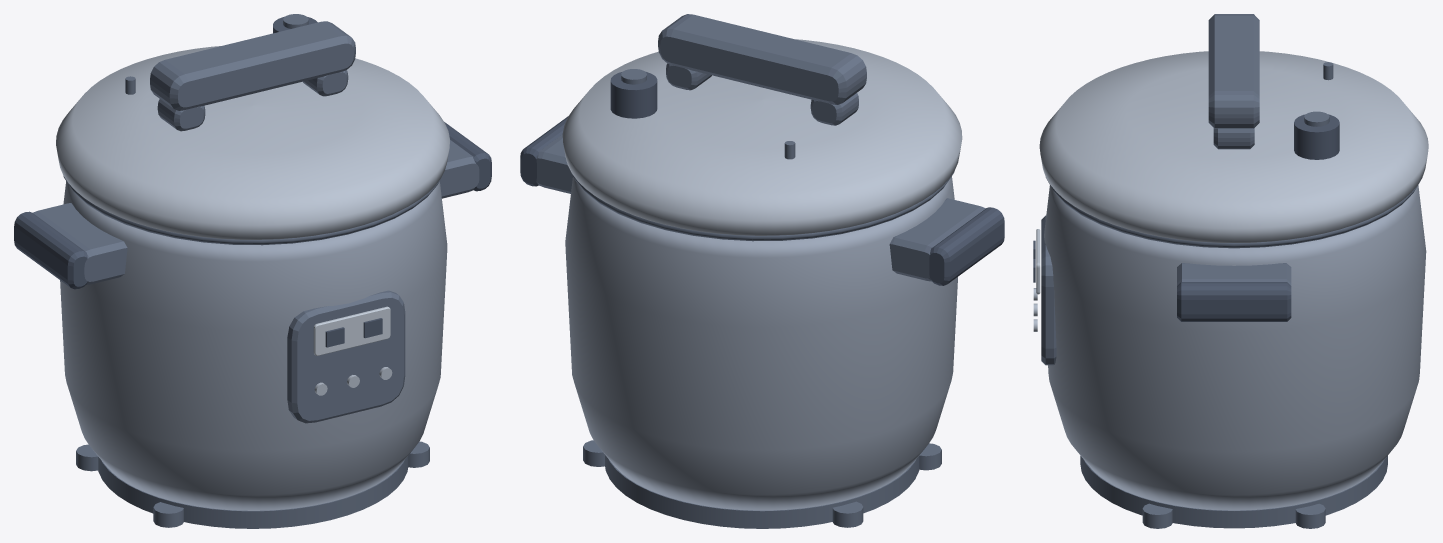
The model's file is pressure-cooker-lite.glb.
3 renders of one model, left to right at view 1: azimuth 30°, elevation 25°; view 2: azimuth 150°, elevation 25°; view 3: azimuth 270°, elevation 25°, orthographic. The views are drawn at different scales.
Visible parts, largest first — view 1: body, soft, dark, accent, light; view 2: body, soft, dark, accent; view 3: body, soft, dark, accent.
Boxes of the visible parts, left/top/right/bottom form: body: left=60, top=181, right=447, bottom=510; soft: left=56, top=46, right=449, bottom=395; dark: left=33, top=14, right=479, bottom=528; accent: left=14, top=16, right=491, bottom=347; light: left=313, top=306, right=390, bottom=355; body: left=565, top=176, right=957, bottom=510; soft: left=562, top=39, right=962, bottom=235; dark: left=536, top=14, right=985, bottom=528; accent: left=520, top=71, right=1004, bottom=285; body: left=1044, top=185, right=1426, bottom=510; soft: left=1033, top=51, right=1428, bottom=331; dark: left=1041, top=14, right=1421, bottom=528; accent: left=1033, top=114, right=1339, bottom=321.
Size of the model in its own units: 0.38 by 0.3555 by 0.311.
